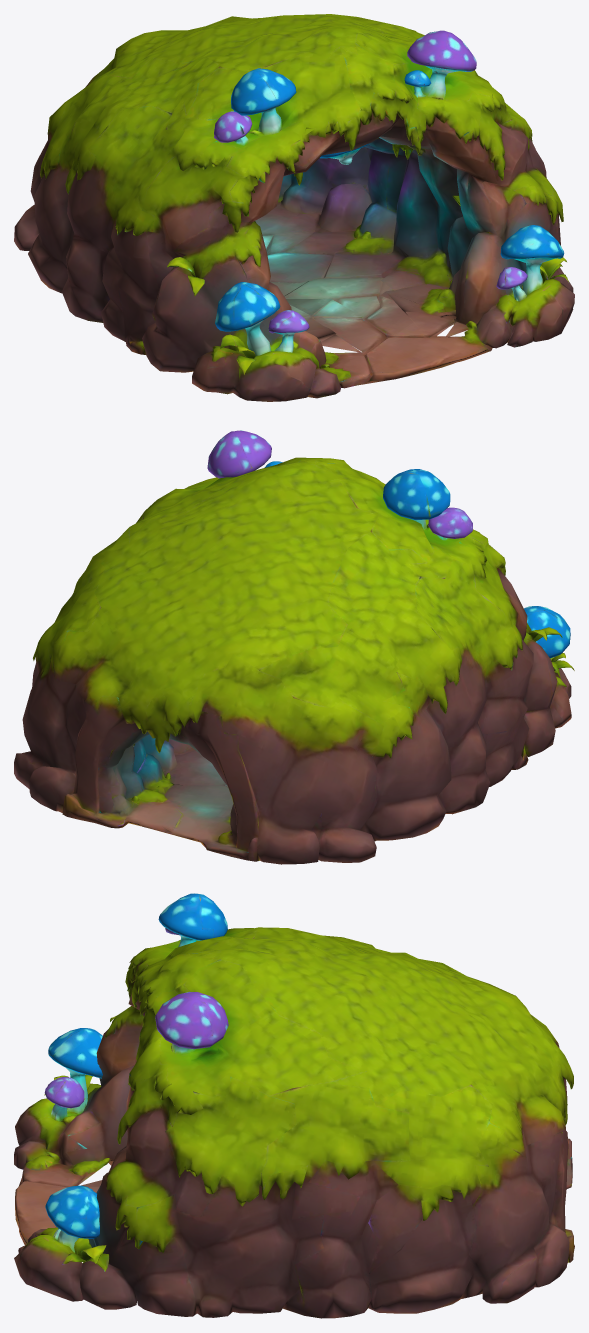
Rendered from glow_cave.glb.
3 views of the same model, one above another, from view 1: azimuth 30°, elevation 25°; view 2: azimuth 150°, elevation 25°; view 3: azimuth 270°, elevation 25° (orthographic). The views are drawn at different scales.
Size of what is drawn, in the model's own units: 1.71 by 1 by 1.86.
Materials: 1 (1 with a texture image).
